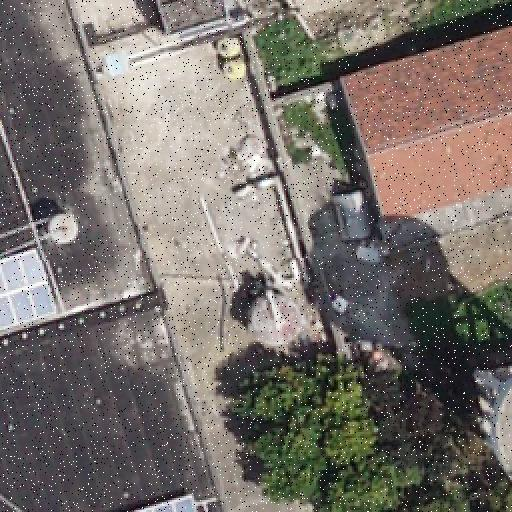solar-panel: (0, 248, 56, 328), (133, 496, 195, 512)
